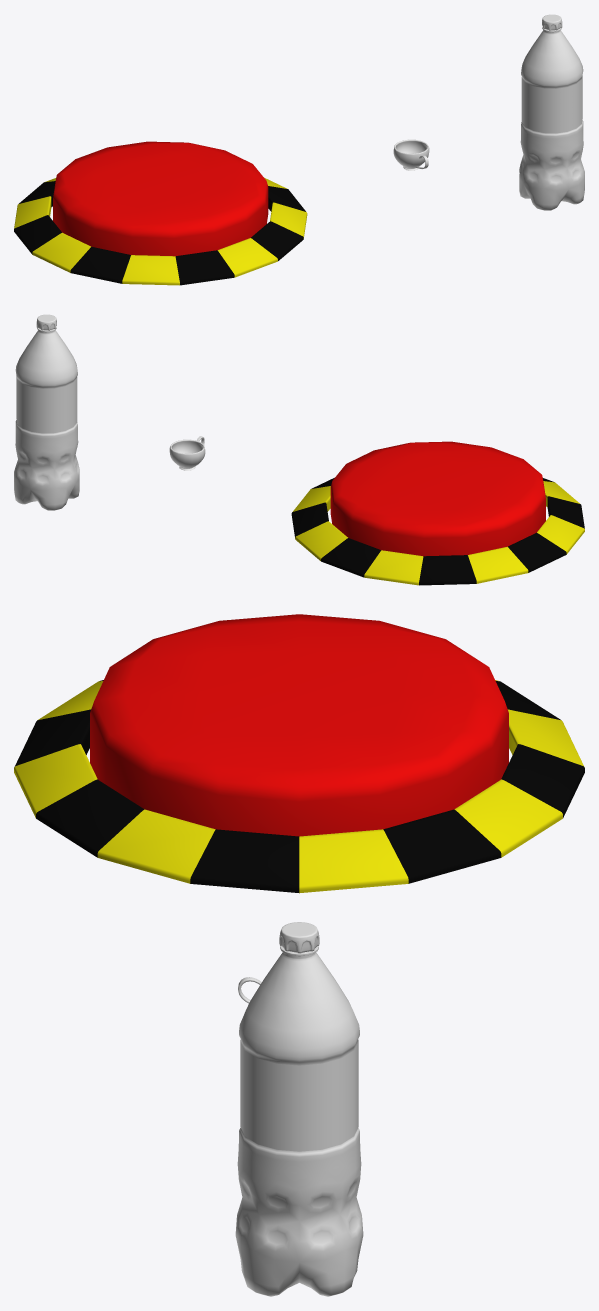
Rendered from cofecup.fbx.
3 renders of one model, top to bottom at view 1: azimuth 30°, elevation 25°; view 2: azimuth 150°, elevation 25°; view 3: azimuth 270°, elevation 25°, orthographic. The views are drawn at different scales.
Parts seen in each view (by area): view 1: Button, Button-side, SodaBottle, SodaBottle-tag, Cupv2; view 2: Button, Button-side, SodaBottle, SodaBottle-tag, Cupv2; view 3: Button, Button-side, SodaBottle, SodaBottle-tag.
Part boxes in pixels (<box>): Button: <box>53,141,268,256</box>; Button-side: <box>14,178,307,285</box>; SodaBottle: <box>519,14,584,210</box>; SodaBottle-tag: <box>521,76,582,133</box>; Cupv2: <box>393,139,429,170</box>; Button: <box>330,441,545,556</box>; Button-side: <box>291,478,584,585</box>; SodaBottle: <box>14,314,79,510</box>; SodaBottle-tag: <box>16,376,77,433</box>; Cupv2: <box>169,436,205,470</box>; Button: <box>90,614,508,836</box>; Button-side: <box>14,680,584,893</box>; SodaBottle: <box>235,922,363,1296</box>; SodaBottle-tag: <box>240,1039,358,1151</box>.
Bounding box in the file's own units: 76.87 × 24.25 × 35.94.
